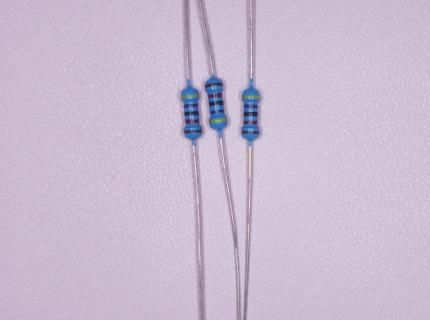Black band: (184, 110, 199, 117), (209, 100, 224, 107), (243, 112, 259, 117)
Brown band: (205, 82, 223, 88), (184, 129, 202, 134), (242, 131, 259, 135)
Red band: (208, 92, 222, 99), (244, 120, 258, 125), (185, 119, 199, 124)
Violet band: (210, 109, 225, 115), (183, 103, 198, 108), (243, 104, 258, 109)
Yellow band: (209, 118, 228, 124), (181, 94, 200, 98), (242, 95, 260, 99)
